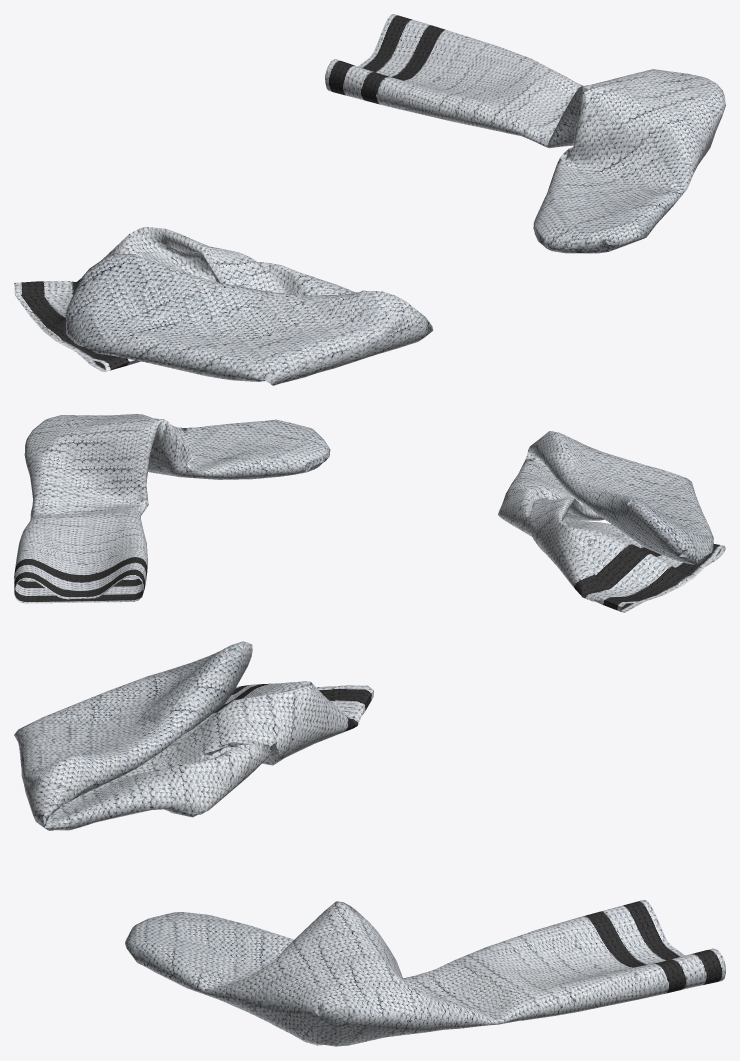
The model's file is Socks.FBX.
The picture shows the model from 3 angles, top to bottom: view 1: azimuth 30°, elevation 25°; view 2: azimuth 150°, elevation 25°; view 3: azimuth 270°, elevation 25°; orthographic projection. The views are drawn at different scales.
Parts seen in each view (by area): view 1: Socks; view 2: Socks; view 3: Socks.
Boxes of the visible parts, box(x1,y1,x2,y2) form: Socks: box(14, 14, 725, 385); Socks: box(14, 414, 725, 612); Socks: box(14, 641, 725, 1046).
Bounding box in the file's own units: 58.7 × 6.37 × 47.27.
1 material, 1 textured.
